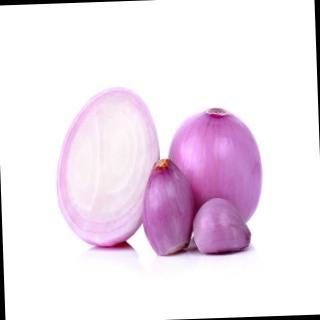Bawang Merah: (139, 158, 197, 259), (190, 196, 255, 258)
